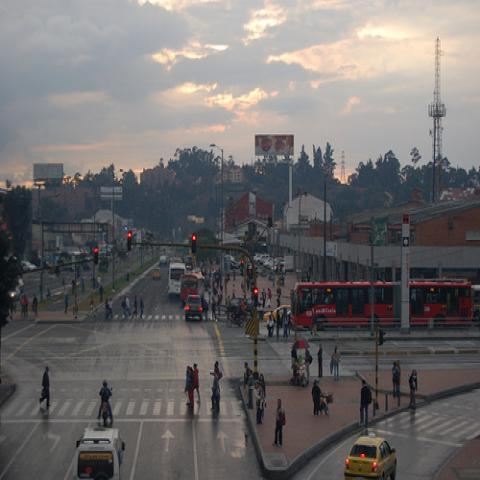bus: (291, 279, 474, 330), (180, 272, 205, 307), (168, 262, 186, 298)
car: (72, 426, 125, 479), (346, 436, 398, 478), (263, 304, 292, 326), (183, 293, 203, 319), (255, 254, 270, 266), (152, 266, 162, 280), (22, 261, 36, 271), (159, 255, 170, 267), (48, 267, 59, 276), (170, 256, 184, 263)
motorcycle: (226, 312, 244, 328), (102, 404, 108, 423)
truck: (75, 427, 125, 480)
